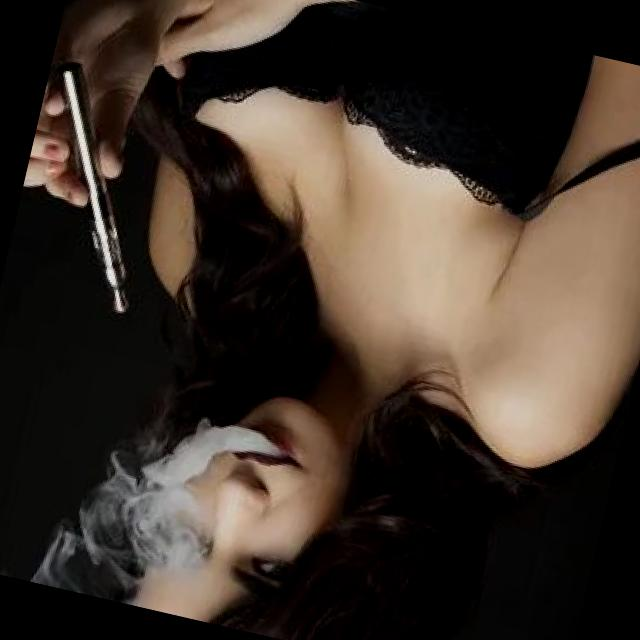smoke: (4, 56, 186, 320)
